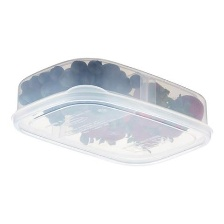plastic_box: (0, 52, 224, 172)
